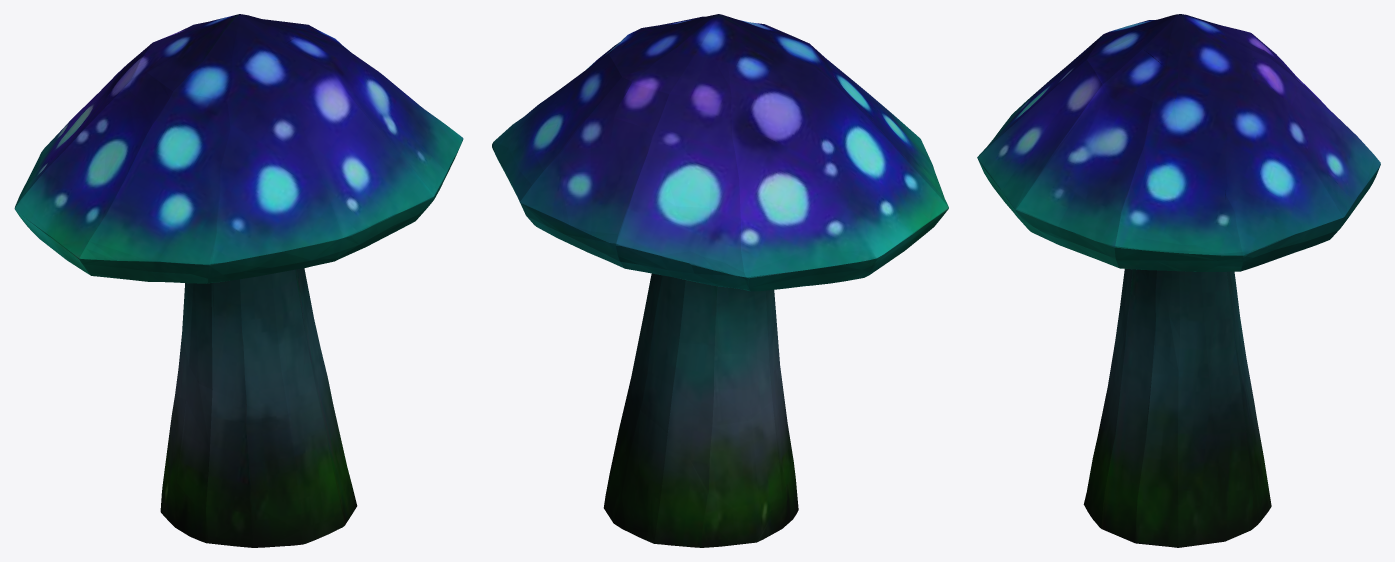
Rendered from d_mycelium_champignon.glb.
The picture shows the model from 3 angles, left to right: view 1: azimuth 30°, elevation 25°; view 2: azimuth 150°, elevation 25°; view 3: azimuth 270°, elevation 25°; orthographic projection. The views are drawn at different scales.
Parts seen in each view (by area): view 1: geometry_0; view 2: geometry_0; view 3: geometry_0.
Part boxes in pixels (<box>): geometry_0: <box>14,14,463,547</box>; geometry_0: <box>492,14,948,547</box>; geometry_0: <box>977,14,1380,547</box>.
Bounding box in the file's own units: 0.8171 × 1 × 0.757.
Materials: 1 (1 with a texture image).
